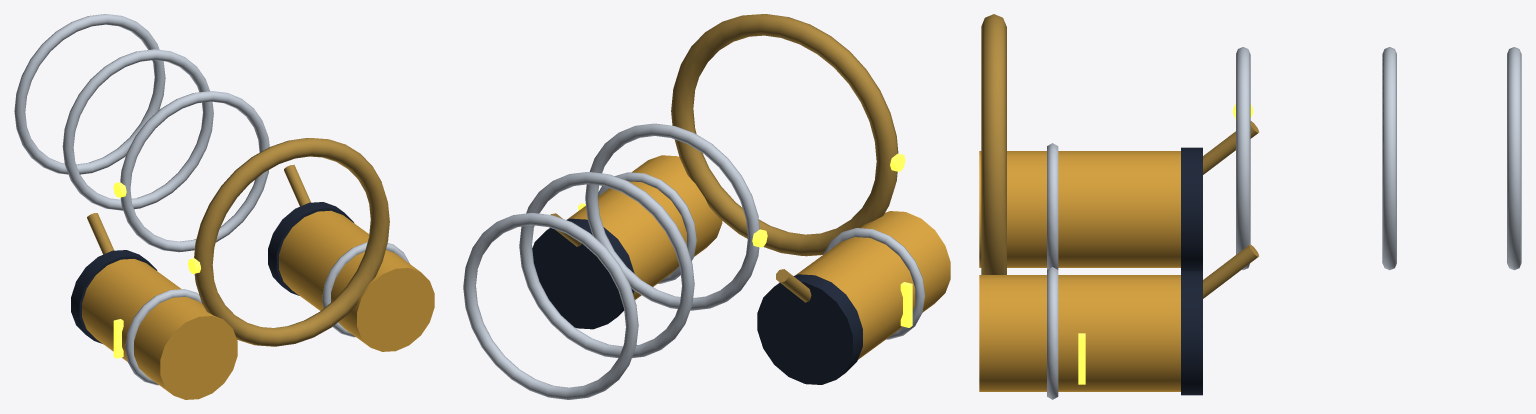
File: tower_nova_damage_s4.glb
The picture shows the model from 3 angles, left to right: view 1: azimuth 30°, elevation 25°; view 2: azimuth 150°, elevation 25°; view 3: azimuth 270°, elevation 25°; orthographic projection. The views are drawn at different scales.
Parts seen in each view (by area): view 1: nova_napalm_can_r, nova_napalm_can_l, nova_pressure_ring, nova_tube_band1.02, nova_tube_band1.36, nova_tube_band0.62, nova_napalm_cap_l, nova_napalm_cap_r, nova_napalm_strap_r, nova_napalm_strap_l, nova_napalm_line_r, nova_napalm_line_l (+1 smaller); view 2: nova_pressure_ring, nova_napalm_can_r, nova_napalm_cap_r, nova_napalm_can_l, nova_tube_band1.36, nova_tube_band1.02, nova_napalm_cap_l, nova_tube_band0.62, nova_napalm_strap_r, nova_napalm_strap_l, nova_napalm_line_r, nova_napalm_gauge_r; view 3: nova_napalm_can_l, nova_napalm_can_r, nova_pressure_ring, nova_tube_band1.02, nova_tube_band1.36, nova_tube_band0.62, nova_napalm_cap_l, nova_napalm_cap_r, nova_napalm_strap_l, nova_napalm_strap_r, nova_napalm_line_l, nova_napalm_line_r.
Boxes of the visible parts, left/top/right/bottom form: nova_napalm_can_r: left=82, top=259, right=237, bottom=399; nova_napalm_can_l: left=279, top=210, right=434, bottom=351; nova_pressure_ring: left=194, top=138, right=389, bottom=346; nova_tube_band1.02: left=62, top=49, right=213, bottom=210; nova_tube_band1.36: left=14, top=14, right=165, bottom=174; nova_tube_band0.62: left=120, top=91, right=269, bottom=252; nova_napalm_cap_l: left=268, top=202, right=353, bottom=295; nova_napalm_cap_r: left=71, top=250, right=157, bottom=343; nova_napalm_strap_r: left=125, top=289, right=201, bottom=385; nova_napalm_strap_l: left=322, top=242, right=409, bottom=337; nova_napalm_line_r: left=87, top=213, right=114, bottom=254; nova_napalm_line_l: left=284, top=164, right=310, bottom=206; nova_pressure_ring: left=671, top=14, right=898, bottom=256; nova_napalm_can_r: left=795, top=211, right=950, bottom=359; nova_napalm_cap_r: left=757, top=274, right=862, bottom=384; nova_napalm_can_l: left=567, top=155, right=722, bottom=299; nova_tube_band1.36: left=463, top=213, right=638, bottom=399; nova_tube_band1.02: left=519, top=172, right=694, bottom=358; nova_napalm_cap_l: left=532, top=218, right=634, bottom=329; nova_tube_band0.62: left=585, top=123, right=759, bottom=310; nova_napalm_strap_r: left=823, top=228, right=924, bottom=339; nova_napalm_strap_l: left=598, top=172, right=696, bottom=283; nova_napalm_line_r: left=776, top=269, right=811, bottom=302; nova_napalm_gauge_r: left=900, top=282, right=912, bottom=327; nova_napalm_can_l: left=979, top=275, right=1180, bottom=391; nova_napalm_can_r: left=979, top=151, right=1180, bottom=267; nova_pressure_ring: left=981, top=14, right=1006, bottom=274; nova_tube_band1.02: left=1382, top=47, right=1396, bottom=270; nova_tube_band1.36: left=1507, top=47, right=1521, bottom=270; nova_tube_band0.62: left=1236, top=47, right=1250, bottom=270; nova_napalm_cap_l: left=1181, top=271, right=1202, bottom=395; nova_napalm_cap_r: left=1181, top=147, right=1202, bottom=271; nova_napalm_strap_l: left=1047, top=267, right=1058, bottom=399; nova_napalm_strap_r: left=1047, top=143, right=1058, bottom=269; nova_napalm_line_l: left=1203, top=244, right=1258, bottom=298; nova_napalm_line_r: left=1203, top=121, right=1259, bottom=174.
Size of the model in its own units: 1.17 by 0.918 by 1.48.
